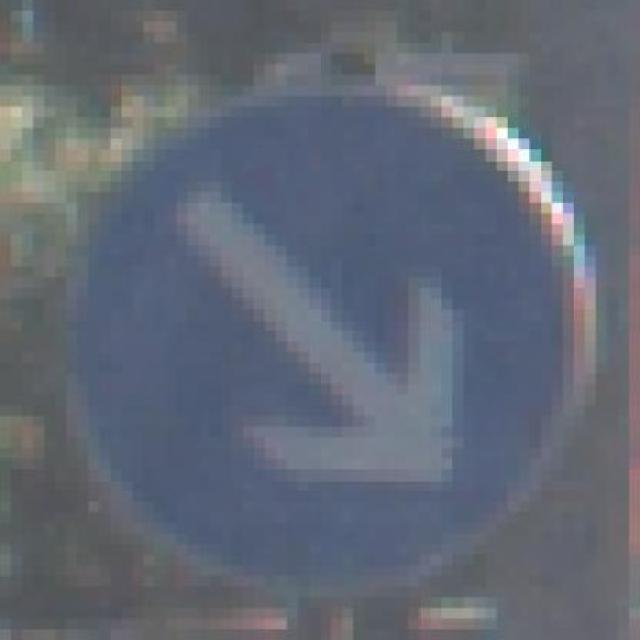Keep-Right: (55, 64, 607, 608)
